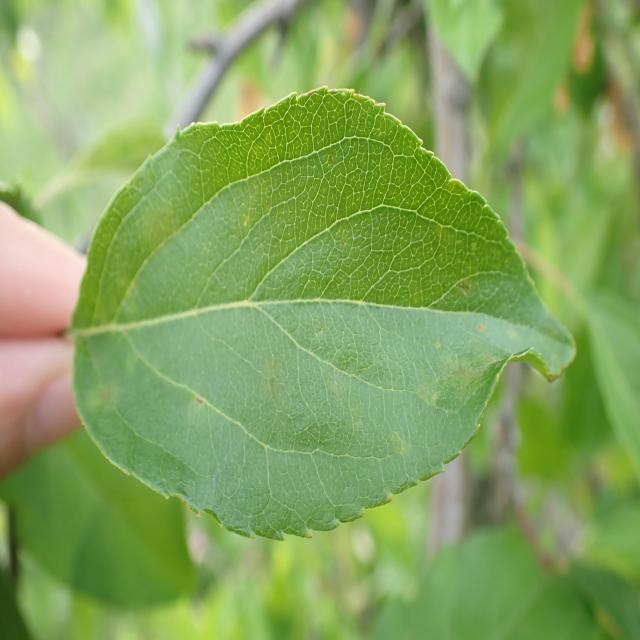scab: (75, 162, 514, 508)
